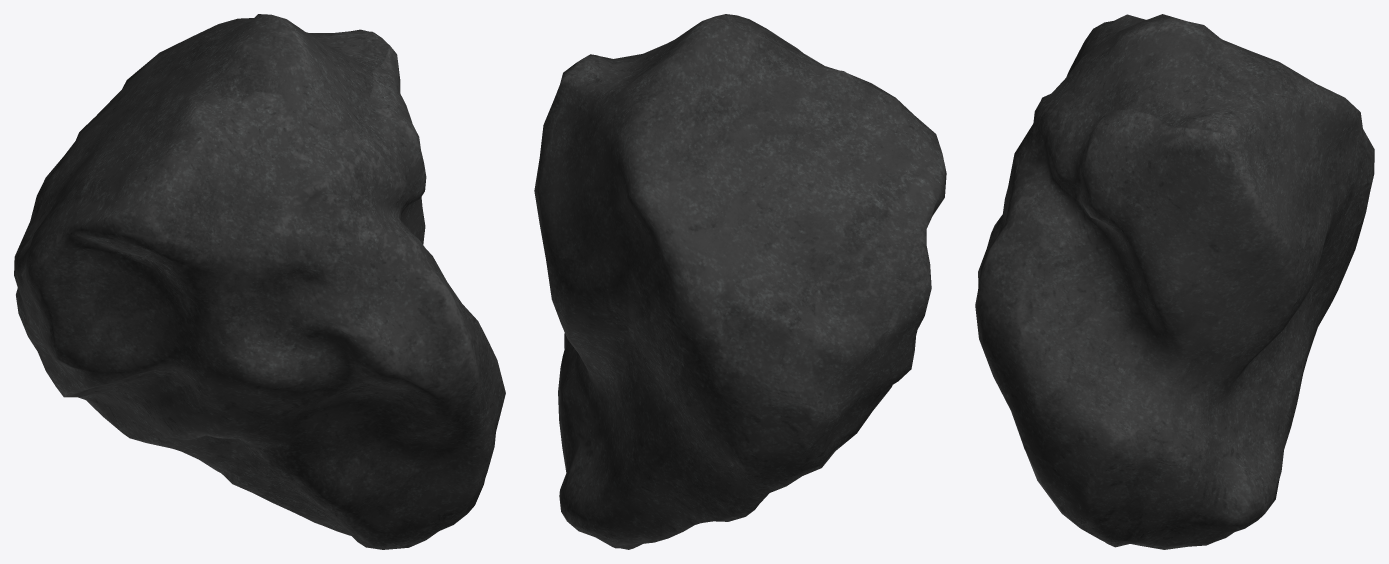
Rendered from Rock02.glb.
The picture shows the model from 3 angles, left to right: view 1: azimuth 30°, elevation 25°; view 2: azimuth 150°, elevation 25°; view 3: azimuth 270°, elevation 25°; orthographic projection. The views are drawn at different scales.
Visible parts, largest first — view 1: SM_Rock_MediumSize; view 2: SM_Rock_MediumSize; view 3: SM_Rock_MediumSize.
Boxes of the visible parts, x1=… form: SM_Rock_MediumSize: x1=14, y1=14, x2=505, y2=549; SM_Rock_MediumSize: x1=534, y1=14, x2=946, y2=549; SM_Rock_MediumSize: x1=975, y1=14, x2=1374, y2=549.
Size of the model in its own units: 15.78 by 19.73 by 14.56.
1 material, 1 textured.
